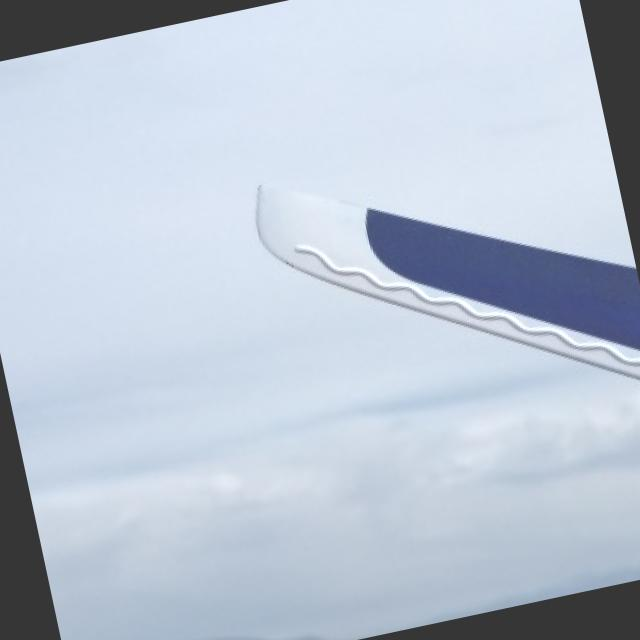healthy: (257, 186, 640, 377)
